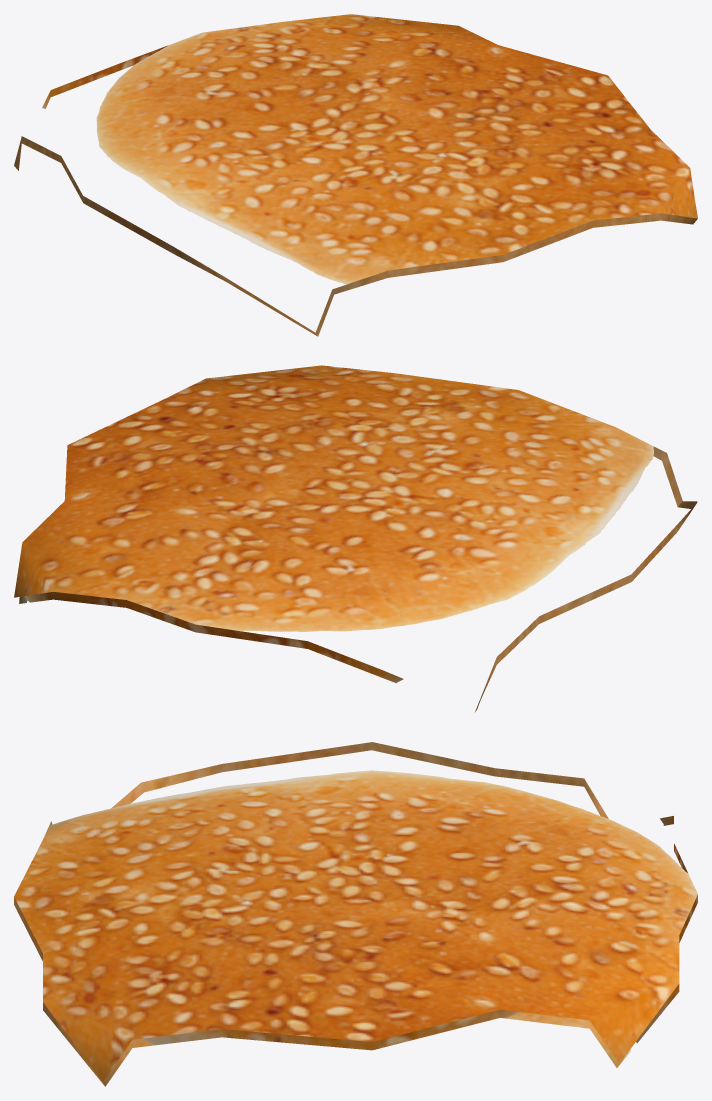
File: cheese.FBX
The picture shows the model from 3 angles, top to bottom: view 1: azimuth 30°, elevation 25°; view 2: azimuth 150°, elevation 25°; view 3: azimuth 270°, elevation 25°; orthographic projection. The views are drawn at different scales.
Parts seen in each view (by area): view 1: cheese_LOD00; view 2: cheese_LOD00; view 3: cheese_LOD00.
Part boxes in pixels (box(x1,y1,x2,y2)): cheese_LOD00: box(14, 14, 697, 336); cheese_LOD00: box(14, 365, 697, 711); cheese_LOD00: box(14, 742, 697, 1086).
Size of what is drawn, in the model's own units: 5.08 by 0.6508 by 5.04.
